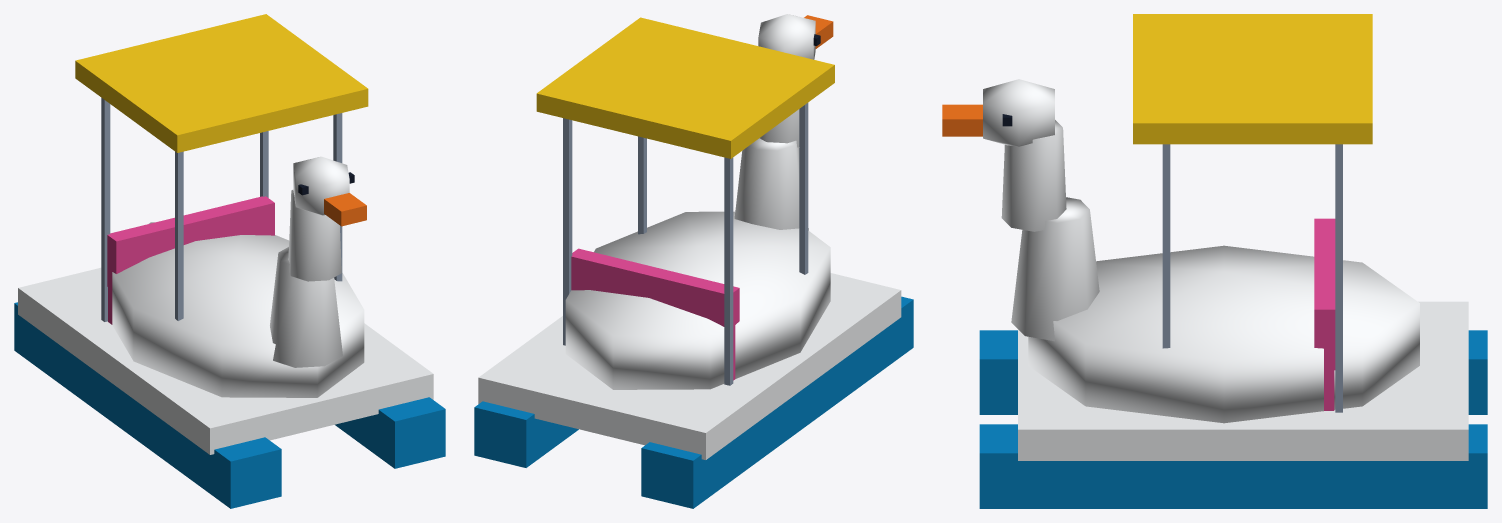
Rendered from prop_01_hxh_pedal_duck_boat.glb.
3 renders of one model, left to right at view 1: azimuth 30°, elevation 25°; view 2: azimuth 150°, elevation 25°; view 3: azimuth 270°, elevation 25°, orthographic. The views are drawn at different scales.
Parts seen in each view (by area): view 1: body_shell, canopy_roof, hull_deck, pontoon_left, neck_lower, cockpit_backrest, pontoon_right, neck_upper, swan_head, canopy_pole_-0.56_-0.55, canopy_pole_-0.56_0.35, beak_upper (+2 smaller); view 2: body_shell, canopy_roof, hull_deck, pontoon_left, cockpit_backrest, neck_lower, pontoon_right, canopy_pole_-0.56_-0.55, swan_head, canopy_pole_0.56_-0.55, canopy_pole_-0.56_0.35, canopy_pole_0.56_0.35 (+1 smaller); view 3: body_shell, canopy_roof, hull_deck, pontoon_right, neck_lower, neck_upper, pontoon_left, swan_head, cockpit_backrest, canopy_pole_0.56_-0.55, canopy_pole_0.56_0.35, beak_upper.
Part boxes in pixels (x1,y1,x2,y2): body_shell: [112, 222, 364, 397]; canopy_roof: [75, 14, 368, 152]; hull_deck: [18, 267, 433, 454]; pontoon_left: [14, 302, 281, 508]; neck_lower: [270, 247, 342, 367]; cockpit_backrest: [107, 196, 274, 289]; pontoon_right: [335, 397, 445, 468]; neck_upper: [288, 190, 341, 281]; swan_head: [293, 156, 349, 215]; canopy_pole_-0.56_-0.55: [101, 98, 110, 321]; canopy_pole_-0.56_0.35: [175, 151, 183, 320]; beak_upper: [324, 193, 366, 226]; body_shell: [565, 211, 830, 389]; canopy_roof: [536, 17, 834, 158]; hull_deck: [478, 273, 901, 459]; pontoon_left: [641, 296, 913, 508]; cockpit_backrest: [571, 248, 739, 344]; neck_lower: [734, 138, 808, 230]; pontoon_right: [474, 401, 578, 467]; canopy_pole_-0.56_-0.55: [724, 157, 733, 385]; swan_head: [758, 14, 815, 59]; canopy_pole_0.56_-0.55: [563, 118, 572, 345]; canopy_pole_-0.56_0.35: [799, 103, 808, 274]; canopy_pole_0.56_0.35: [638, 136, 646, 234]; body_shell: [1028, 245, 1419, 423]; canopy_roof: [1133, 14, 1372, 144]; hull_deck: [1018, 301, 1468, 460]; pontoon_right: [979, 424, 1487, 508]; neck_lower: [1011, 197, 1099, 341]; neck_upper: [1001, 120, 1066, 231]; pontoon_left: [979, 330, 1487, 414]; swan_head: [983, 79, 1054, 146]; cockpit_backrest: [1314, 218, 1335, 370]; canopy_pole_0.56_-0.55: [1335, 144, 1342, 412]; canopy_pole_0.56_0.35: [1162, 144, 1170, 348]; beak_upper: [942, 104, 982, 136].
Bounding box in the file's own units: 1.58 × 2.18 × 2.85.
